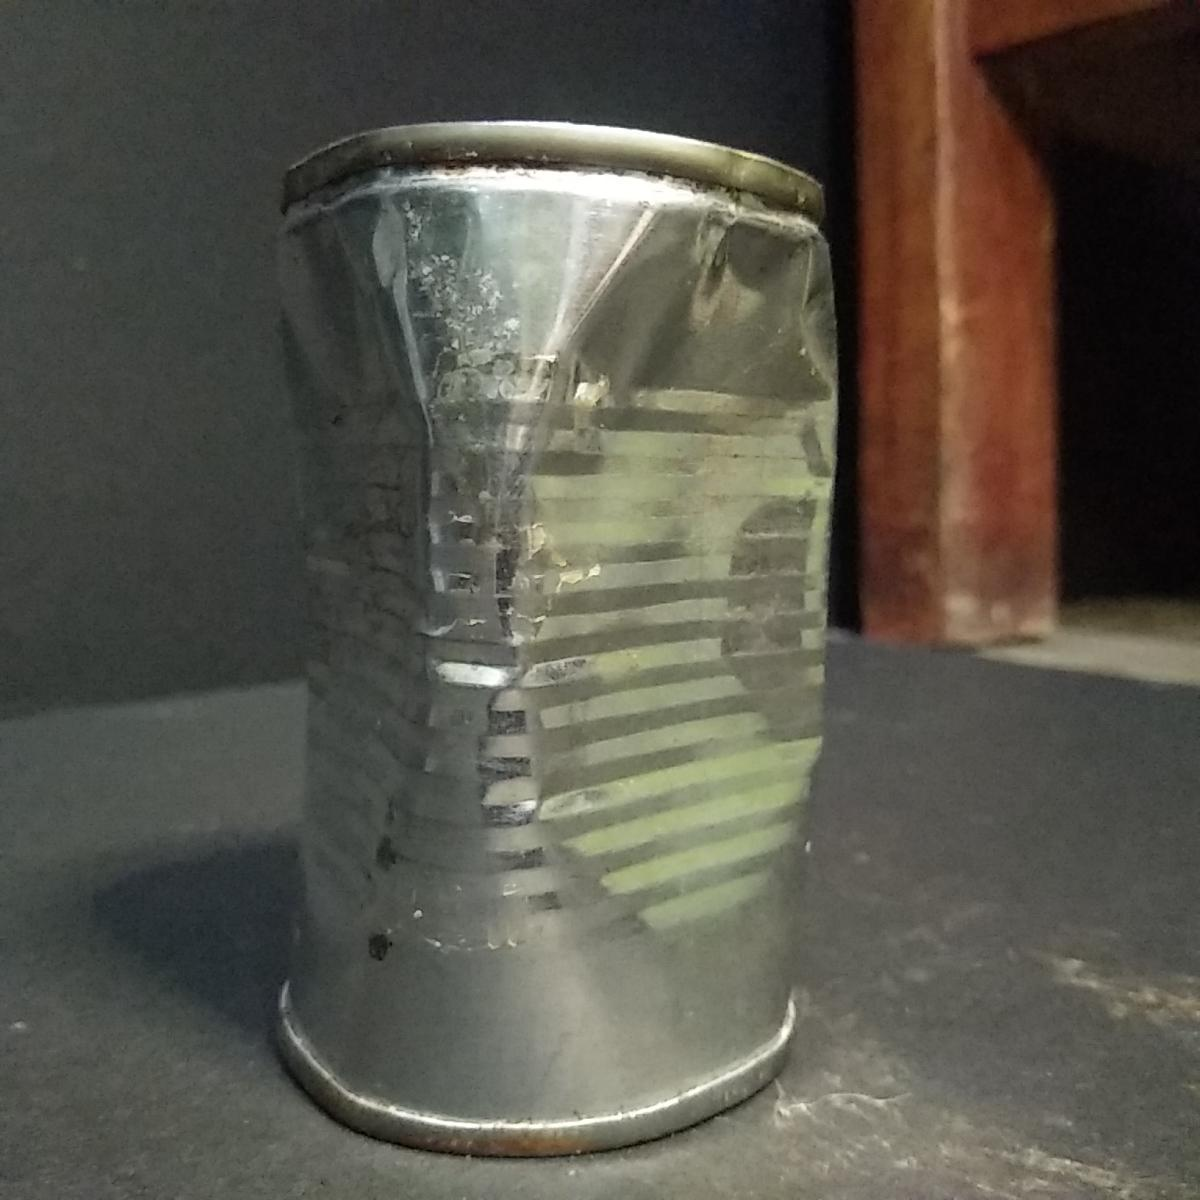Dented: (252, 108, 844, 1184)
